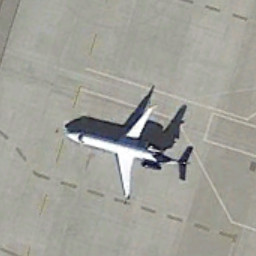Airplane: (61, 100, 195, 208)
